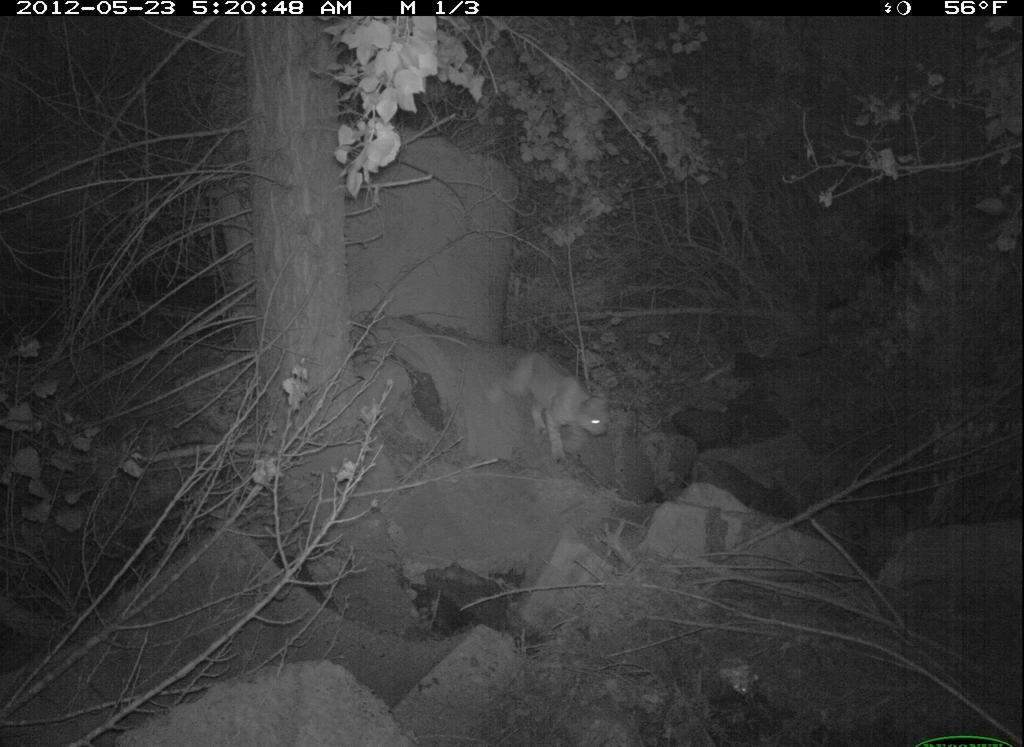bobcat: (481, 335, 626, 466)
